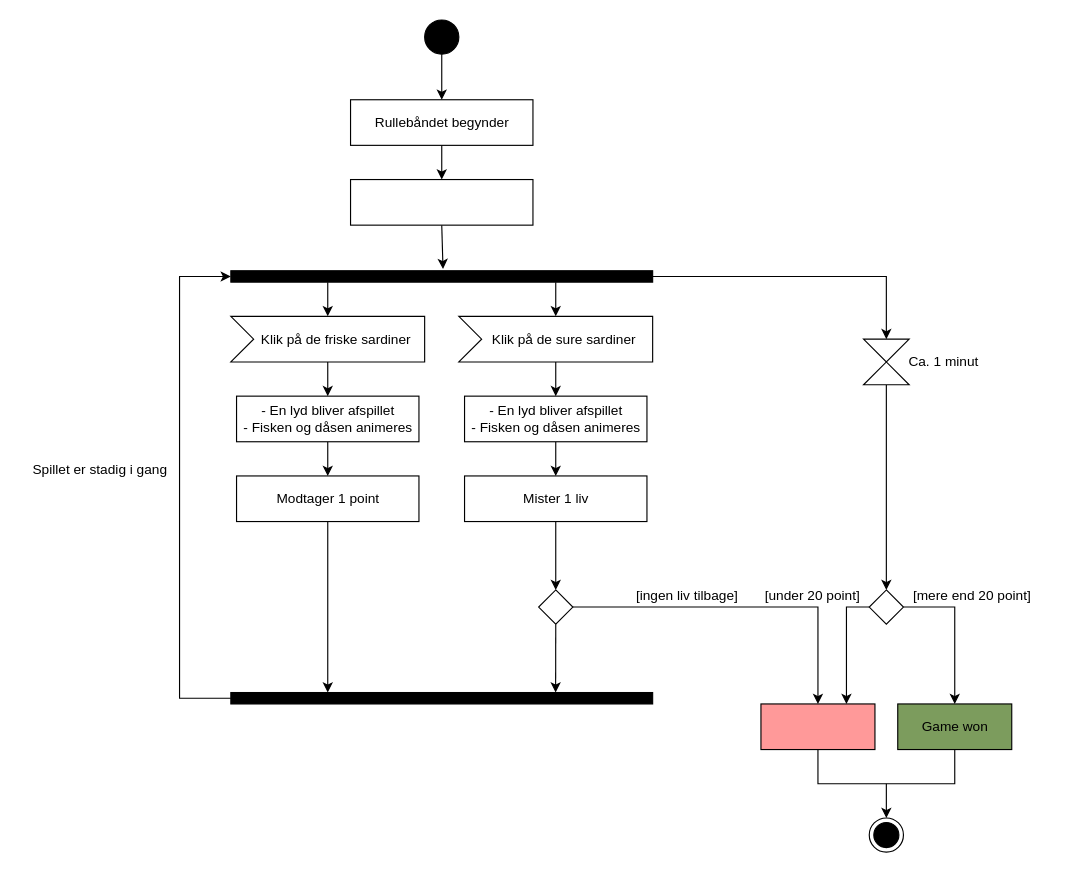
Some shapes in this 1065 by 872 pixel diagram are drawn without their labels. The shapes that lost their labels are listed below. From the top down, each one's box as (x1, y1, x2, y2) in pixels, then its label:
(349, 178, 533, 225): Sardiner ruller ind fra venstre
(760, 703, 875, 750): Game over
